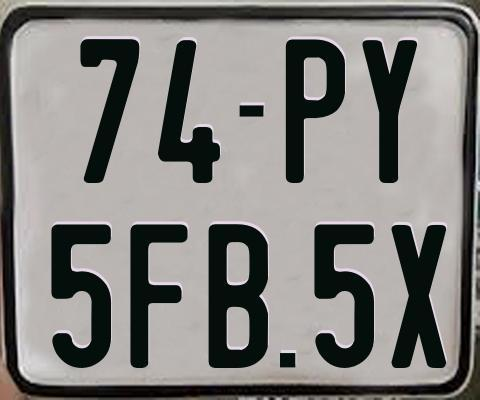4: (155, 38, 221, 187)
5: (313, 222, 376, 369), (48, 224, 110, 373)
7: (79, 36, 143, 184)
B: (205, 221, 269, 370)
F: (127, 223, 189, 370)
P: (283, 37, 346, 187)
X: (390, 222, 450, 371)
Y: (361, 37, 418, 184)
